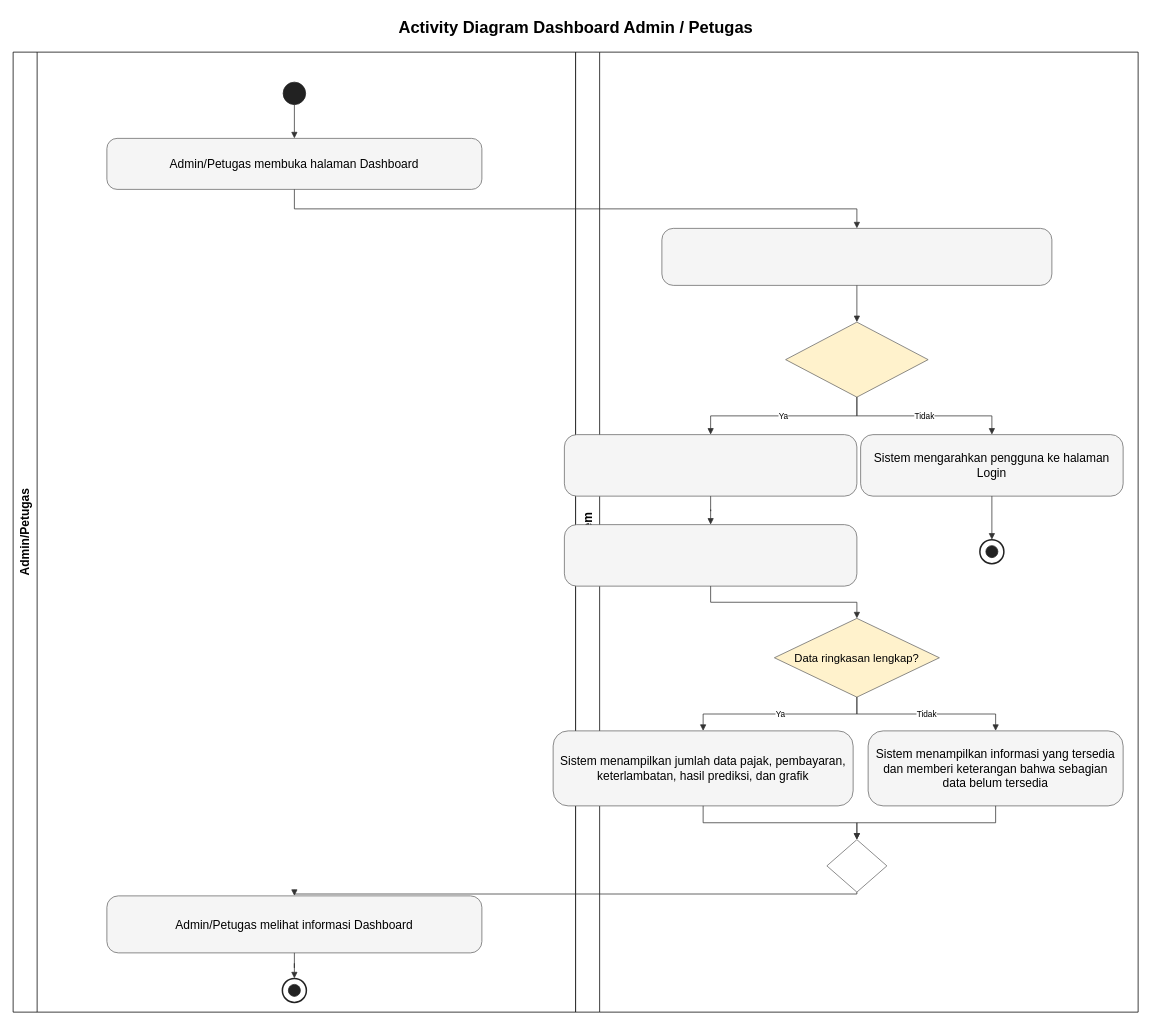
This 1151x1025 diagram has some shape labels left out. The shapes that lost their labels are listed below. From the top down, each one's box as (x1, y1, x2, y2) in pixels, then its label:
(661, 228, 1052, 285): Sistem memeriksa sesi dan hak akses
(785, 321, 928, 397): Sesi valid?
(564, 434, 857, 496): Sistem mengambil ringkasan data pajak dan hasil prediksi dari basis data
(564, 524, 857, 586): Sistem mengolah data ringkasan Dashboard
